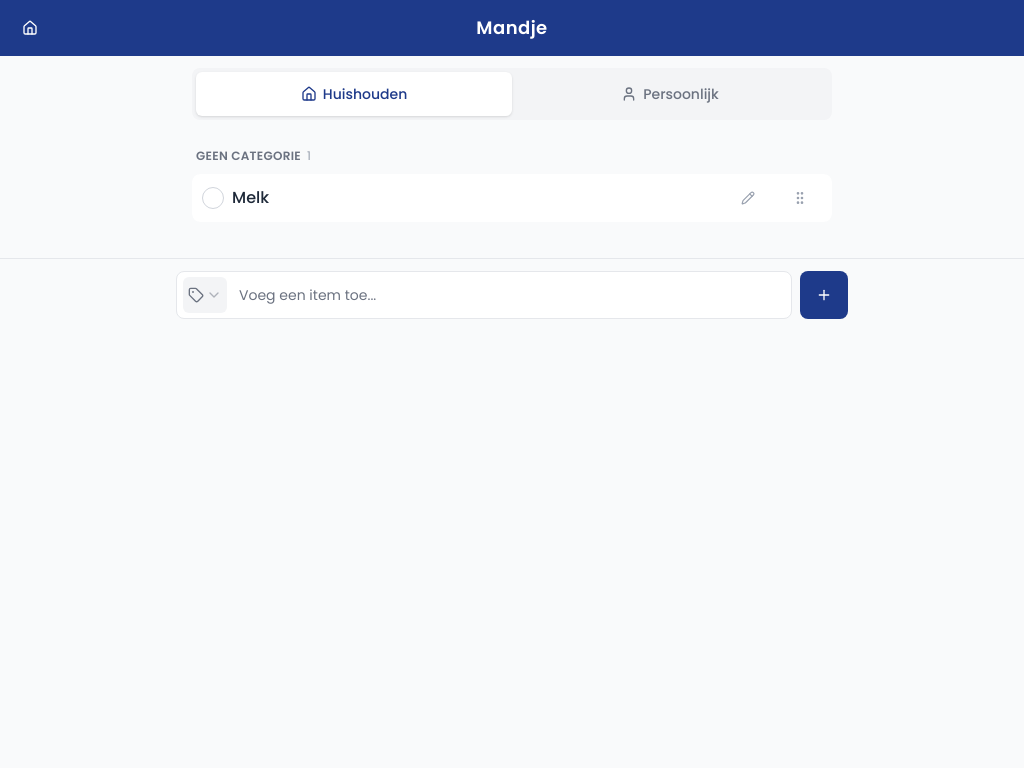
it: HouseholdClientPage › renaming an item › shows the new name straight away, before the server has answered
Click the button named "melk hernoemen" at (748, 198), box top-left (726, 176), bottom-right (770, 220)
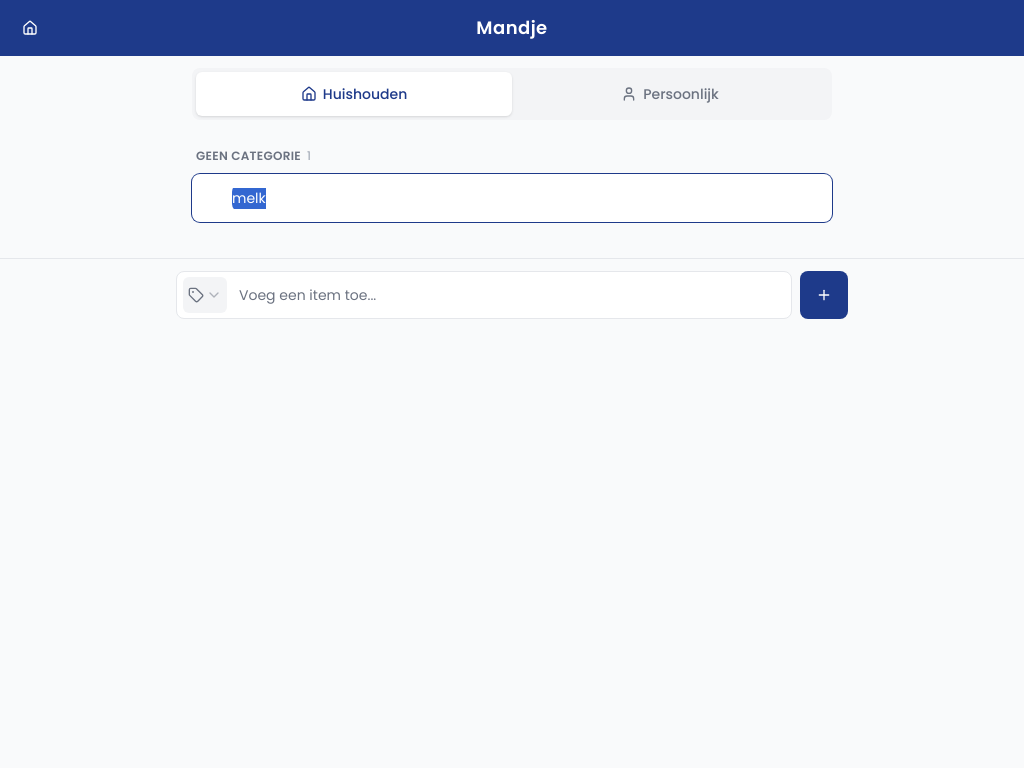
Replace the text in the field showing "melk" with "karnemelk" at (527, 198), box top-left (232, 184), bottom-right (822, 212)
Then press Enter
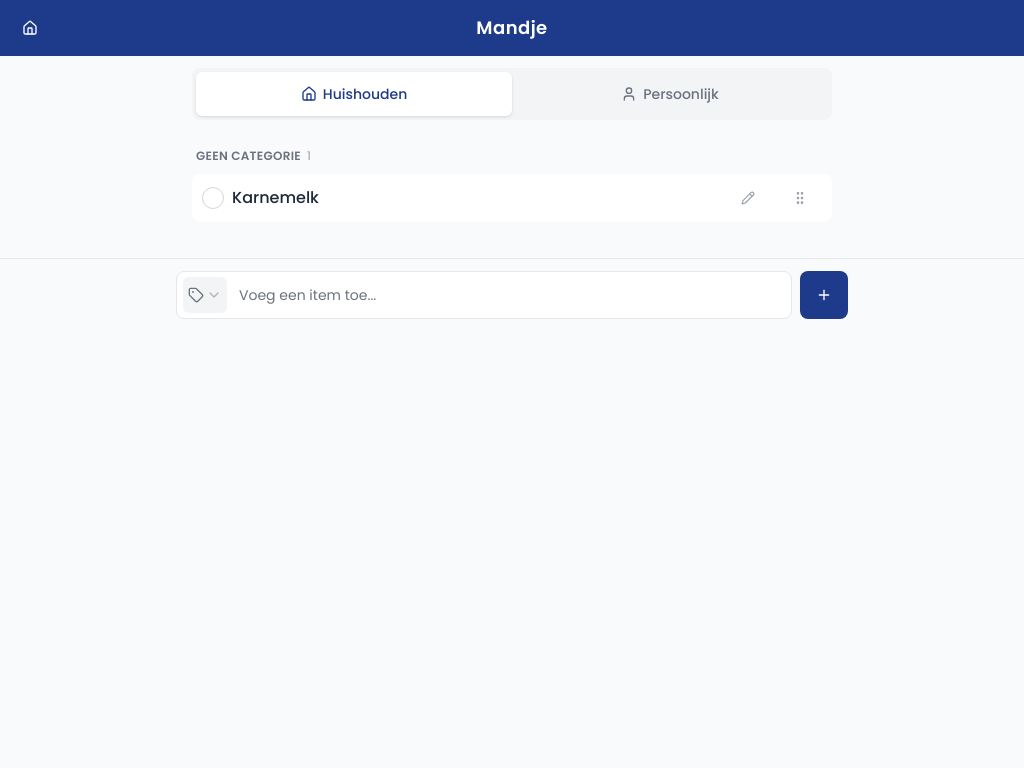
Now the text "karnemelk" is shown, box top-left (232, 186), bottom-right (319, 209)
